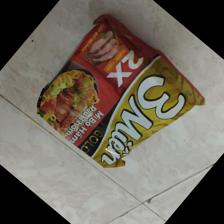3mien: (35, 12, 205, 169)
